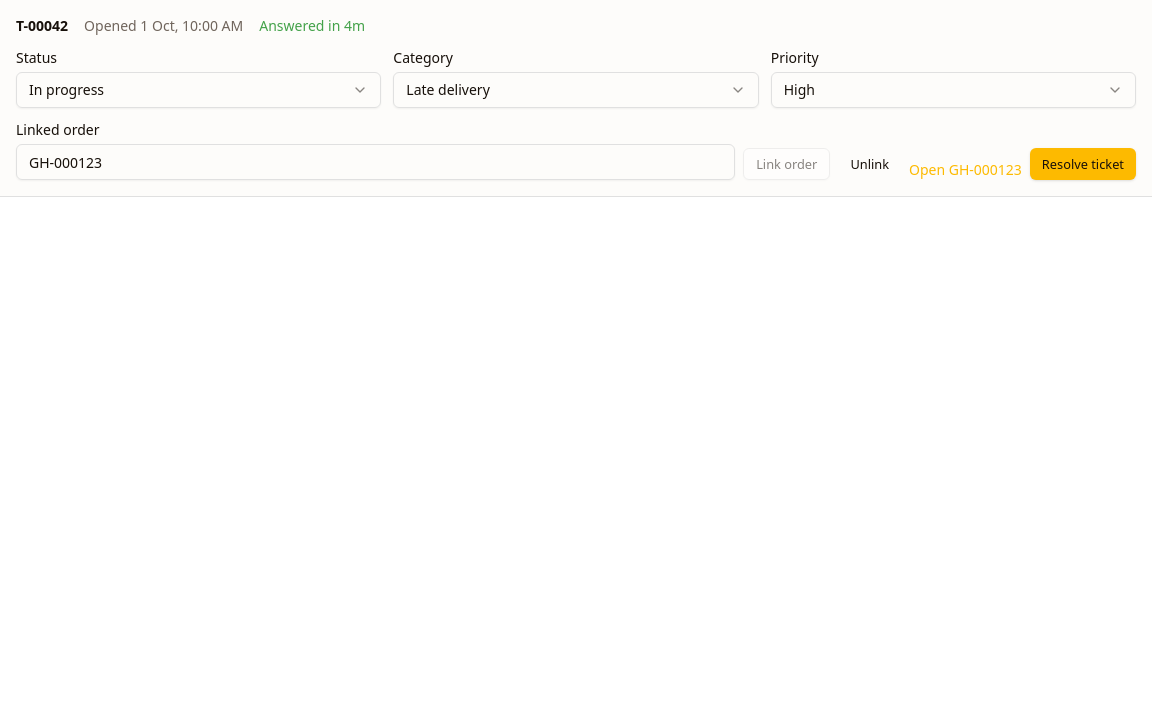
Test: TicketDetails › lets the agent link an order and asks for an outcome before resolving
The width and height of the screenshot is (1152, 720).
Expected: the text "T-00042" is shown, [16,16,68,36]
Expected: the text "Answered in 4m" is shown, [259,16,365,36]
Replace the text in the field labelled "Linked order" with "gh-000999" at point(376, 162), box [16,144,735,180]
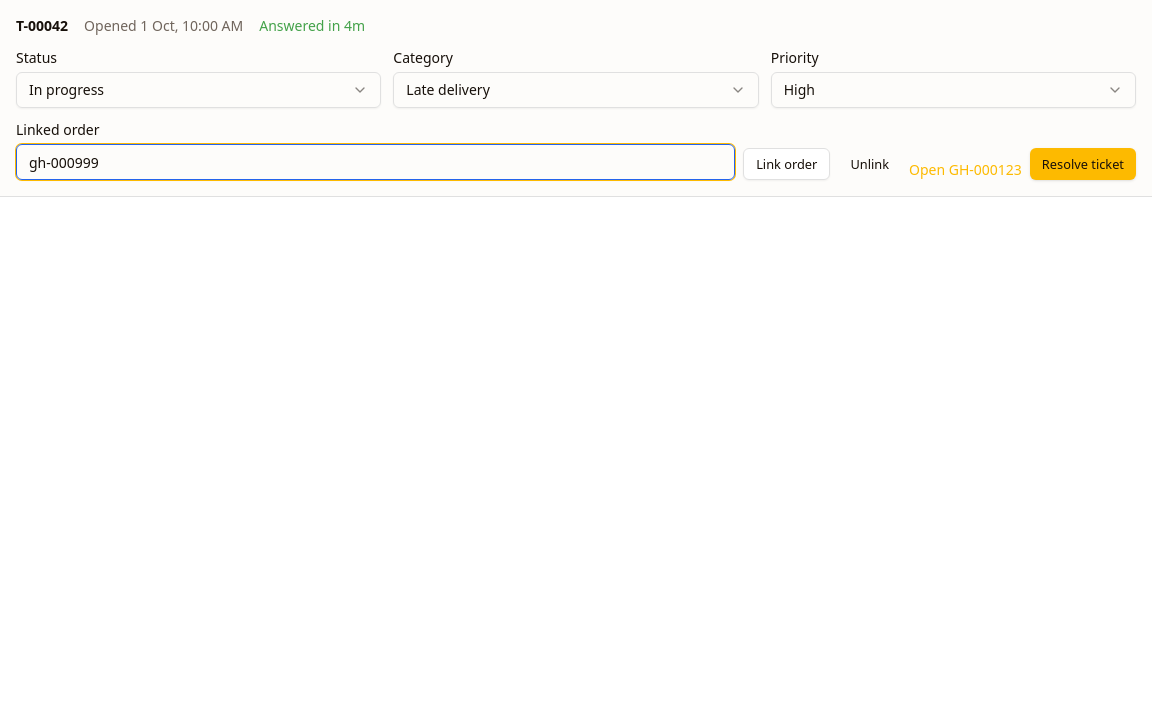
Click the button "Link order" at point(787, 164), box [743,148,830,180]
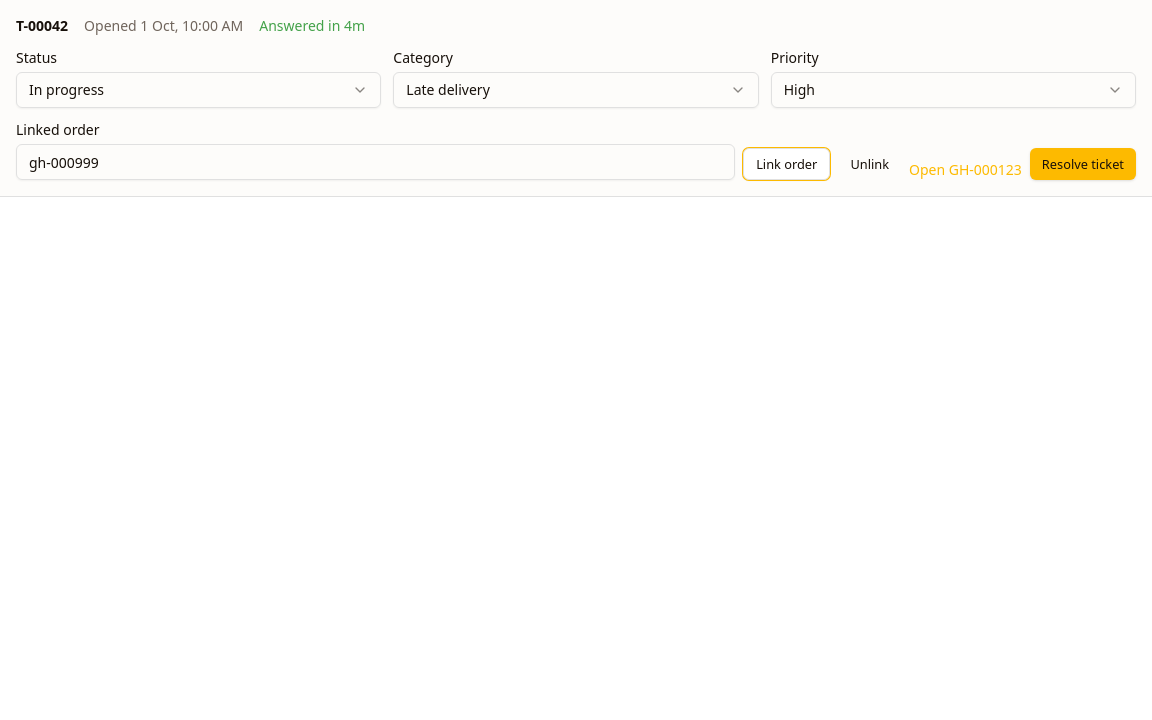
Click the button "Resolve ticket" at point(1083, 164), box [1030,148,1136,180]
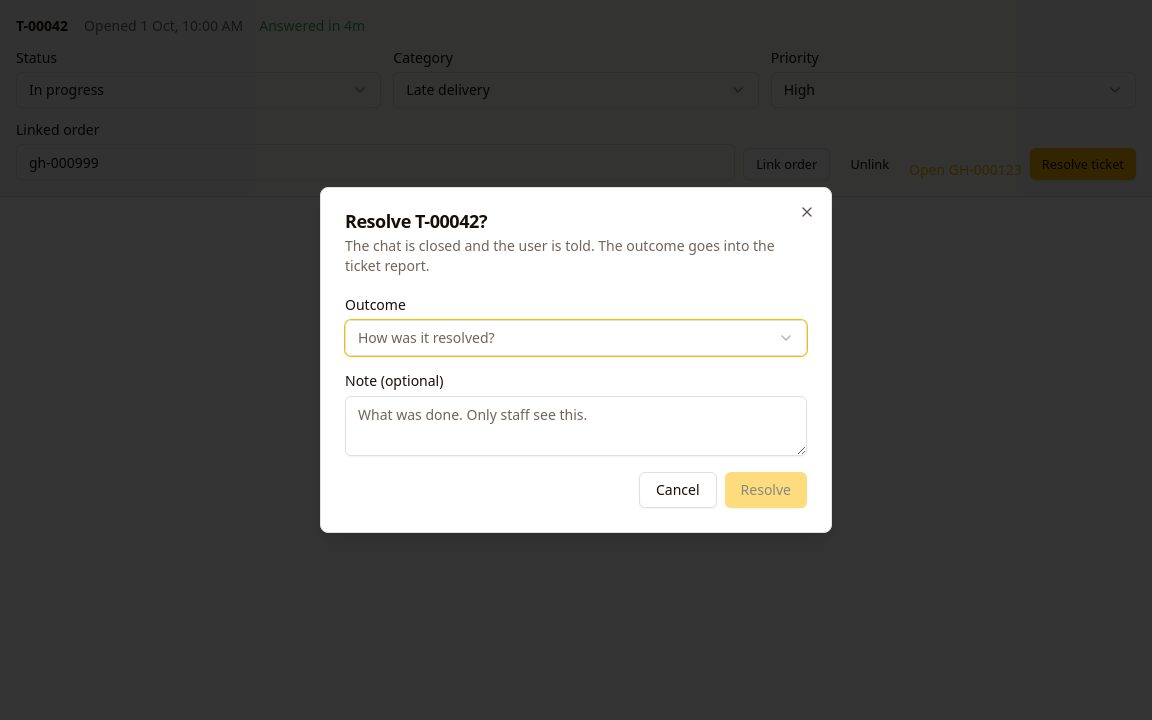
Now the dialog is shown, box [320,187,832,533]
Now the button "Resolve" is disabled, box [725,472,807,508]
